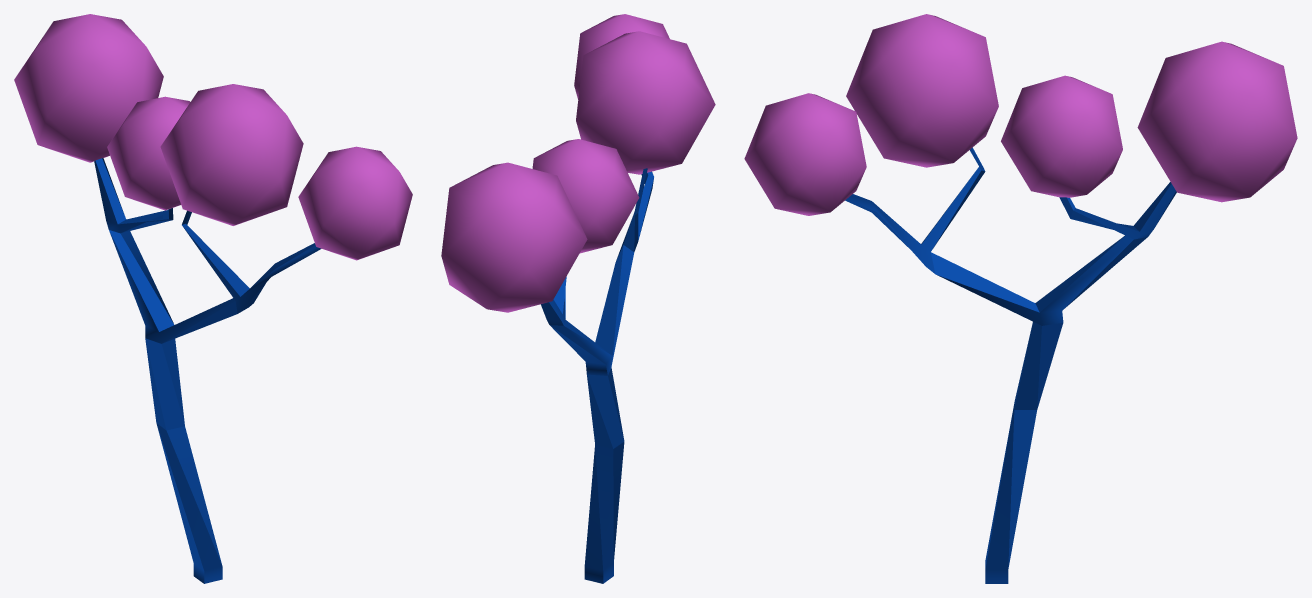
The model's file is Sculpture4.fbx.
3 renders of one model, left to right at view 1: azimuth 30°, elevation 25°; view 2: azimuth 150°, elevation 25°; view 3: azimuth 270°, elevation 25°, orthographic. The views are drawn at different scales.
Visible parts, largest first — view 1: pCube1, pSphere4, pSphere6, pSphere8, pSphere5; view 2: pSphere6, pSphere4, pCube1, pSphere5, pSphere8; view 3: pSphere6, pSphere4, pCube1, pSphere8, pSphere5.
Boxes of the visible parts, <box> form: pCube1: <box>94,158,321,583</box>; pSphere4: <box>160,84,303,225</box>; pSphere6: <box>14,14,163,162</box>; pSphere8: <box>298,146,412,260</box>; pSphere5: <box>107,96,190,210</box>; pSphere6: <box>441,162,587,312</box>; pSphere4: <box>576,31,715,174</box>; pCube1: <box>541,168,653,583</box>; pSphere5: <box>532,139,639,253</box>; pSphere8: <box>574,14,669,99</box>; pSphere6: <box>1137,41,1297,202</box>; pSphere4: <box>846,14,998,167</box>; pCube1: <box>845,147,1176,583</box>; pSphere8: <box>744,93,866,215</box>; pSphere5: <box>1001,75,1122,197</box>.
Size of the model in its own units: 3.68 by 9.73 by 8.69.
